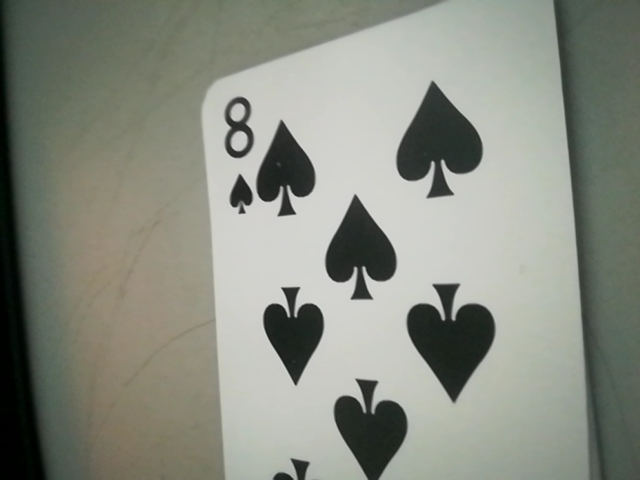ht 8: (207, 87, 273, 224)
